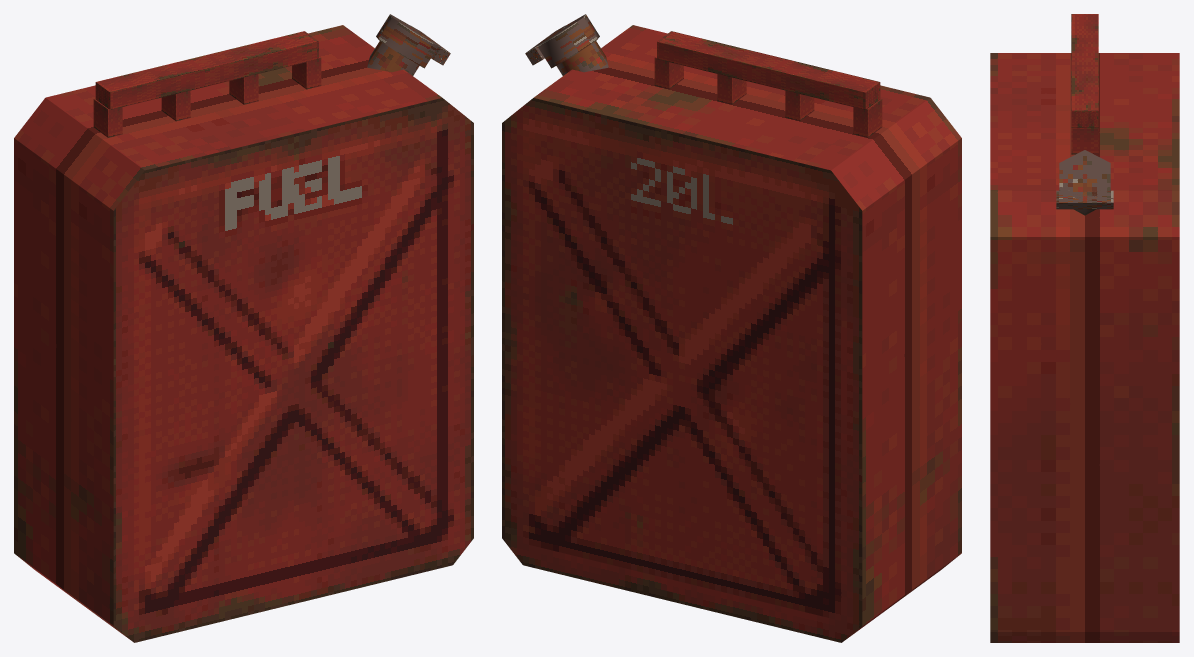
The model's file is jerry_can.glb.
3 views of the same model, side by side, from view 1: azimuth 30°, elevation 25°; view 2: azimuth 150°, elevation 25°; view 3: azimuth 270°, elevation 25° (orthographic). The views are drawn at different scales.
Visible parts, largest first — view 1: jerry_can; view 2: jerry_can; view 3: jerry_can.
Part boxes in pixels (bbox=[...]): jerry_can: bbox=[14, 14, 473, 642]; jerry_can: bbox=[502, 14, 961, 642]; jerry_can: bbox=[990, 14, 1179, 642].
Size of the model in its own units: 0.3562 by 0.471 by 0.165.
Materials: 1 (1 with a texture image).
